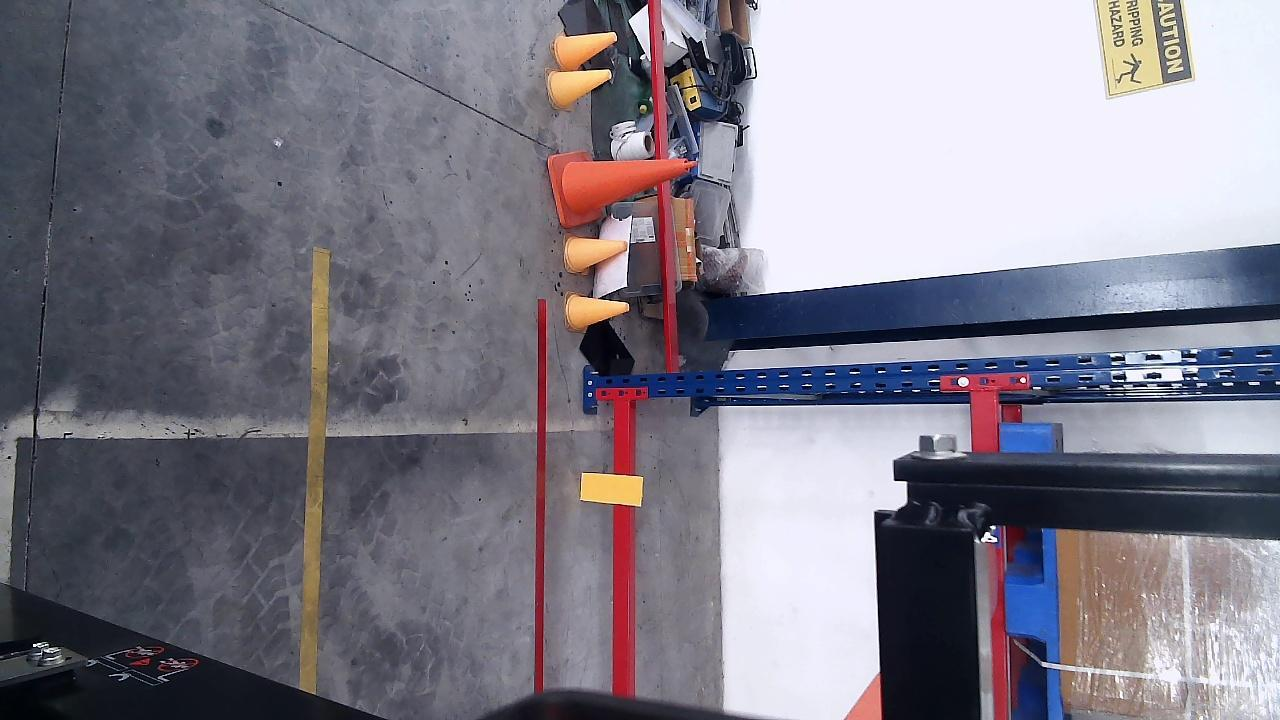h_rack: (613, 403, 630, 695)
orange_strip: (580, 474, 641, 507)
red_line: (537, 297, 546, 690)
small_pallet: (1001, 423, 1063, 720)
yellow_line: (301, 247, 326, 694)
